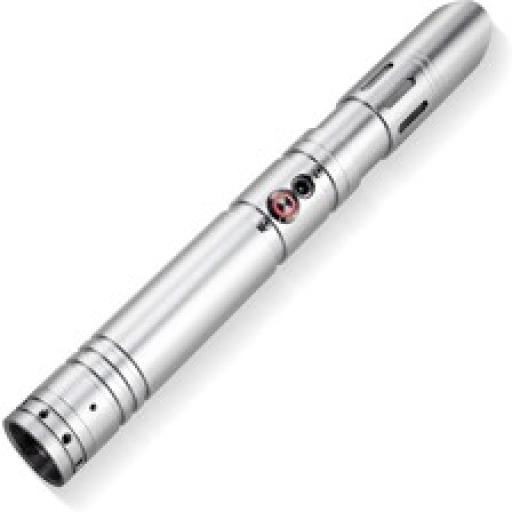lightsaber: (4, 3, 491, 488)
